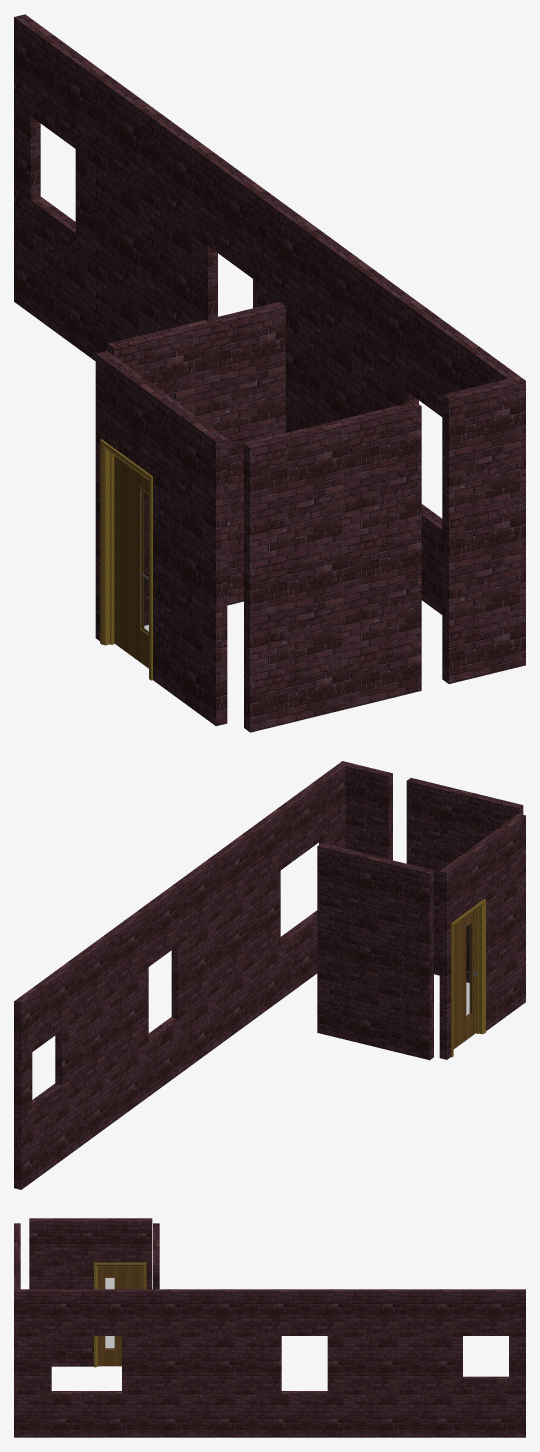
3 renders of one model, top to bottom at view 1: azimuth 30°, elevation 25°; view 2: azimuth 150°, elevation 25°; view 3: azimuth 270°, elevation 25°, orthographic. The views are drawn at different scales.
Visible parts, largest first — view 1: Basic Wall Wall-Ext_215Bwk [345388]001, Basic Wall Wall-Ext_215Bwk [344084]001, Basic Wall Wall-Ext_215Bwk [344016]001, Basic Wall Wall-Ext_215Bwk [344196]001, Basic Wall Wall-Ext_215Bwk [343910]001, Doors_IntSgl_2 910x2110mm [627189]001; view 2: Basic Wall Wall-Ext_215Bwk [345388]001, Basic Wall Wall-Ext_215Bwk [343910]001, Basic Wall Wall-Ext_215Bwk [344016]001, Basic Wall Wall-Ext_215Bwk [344084]001, Doors_IntSgl_2 910x2110mm [627189]001, Basic Wall Wall-Ext_215Bwk [344196]001; view 3: Basic Wall Wall-Ext_215Bwk [345388]001, Basic Wall Wall-Ext_215Bwk [344016]001, Doors_IntSgl_2 910x2110mm [627189]001, Basic Wall Wall-Ext_215Bwk [344196]001, Basic Wall Wall-Ext_215Bwk [343910]001, Basic Wall Wall-Ext_215Bwk [344084]001.
Boxes of the visible parts, x1,y1,x2,y2 form: Basic Wall Wall-Ext_215Bwk [345388]001: (14,14,518,614); Basic Wall Wall-Ext_215Bwk [344084]001: (244,401,421,732); Basic Wall Wall-Ext_215Bwk [344016]001: (95,351,227,726); Basic Wall Wall-Ext_215Bwk [344196]001: (442,376,525,683); Basic Wall Wall-Ext_215Bwk [343910]001: (108,302,285,625); Doors_IntSgl_2 910x2110mm [627189]001: (100,439,152,680); Basic Wall Wall-Ext_215Bwk [345388]001: (14,764,345,1189); Basic Wall Wall-Ext_215Bwk [343910]001: (317,843,433,1060); Basic Wall Wall-Ext_215Bwk [344016]001: (439,813,525,1059); Basic Wall Wall-Ext_215Bwk [344084]001: (406,778,523,982); Doors_IntSgl_2 910x2110mm [627189]001: (451,899,485,1057); Basic Wall Wall-Ext_215Bwk [344196]001: (338,761,392,860); Basic Wall Wall-Ext_215Bwk [345388]001: (20,1289,525,1437); Basic Wall Wall-Ext_215Bwk [344016]001: (29,1218,152,1366); Doors_IntSgl_2 910x2110mm [627189]001: (94,1262,146,1367); Basic Wall Wall-Ext_215Bwk [344196]001: (14,1272,20,1437); Basic Wall Wall-Ext_215Bwk [343910]001: (153,1223,159,1289); Basic Wall Wall-Ext_215Bwk [344084]001: (14,1223,20,1272).
Size of the model in its own units: 3.27 by 3 by 9.57.
6 materials, 4 textured.
